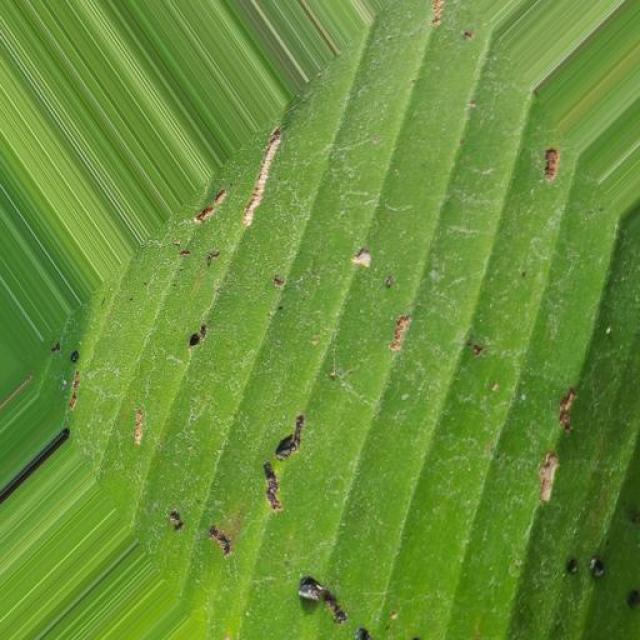Black_rot: (97, 84, 640, 640)
